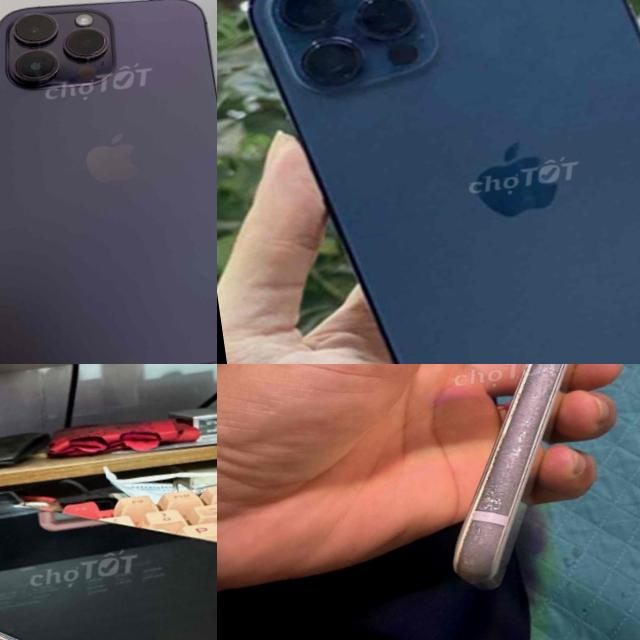scratch: (487, 396, 551, 468), (456, 520, 507, 566), (468, 469, 522, 512), (514, 364, 584, 390)
